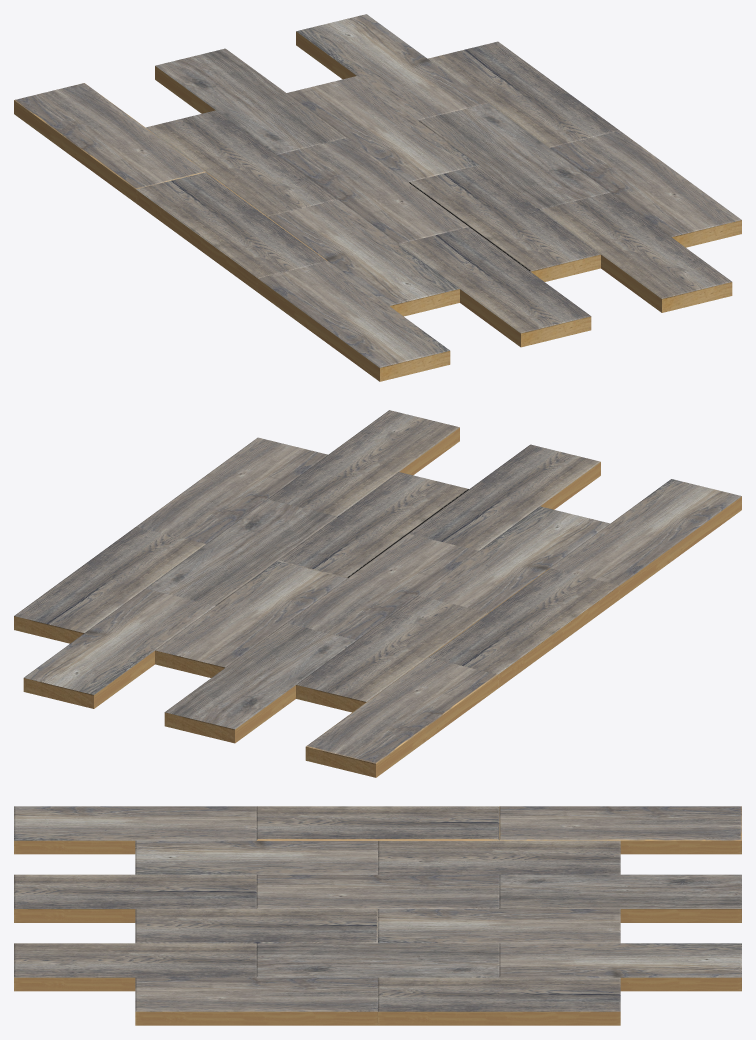
3 views of the same model, one above another, from view 1: azimuth 30°, elevation 25°; view 2: azimuth 150°, elevation 25°; view 3: azimuth 270°, elevation 25° (orthographic).
Parts seen in each view (by area): view 1: parquet_model_0; view 2: parquet_model_0; view 3: parquet_model_0.
Part boxes in pixels (x1,y1,x2,y2): parquet_model_0: (14,14,741,381); parquet_model_0: (14,410,741,777); parquet_model_0: (14,806,741,1025).
Size of what is drawn, in the model's own units: 2 by 0.0658 by 3.
1 material, 1 textured.
